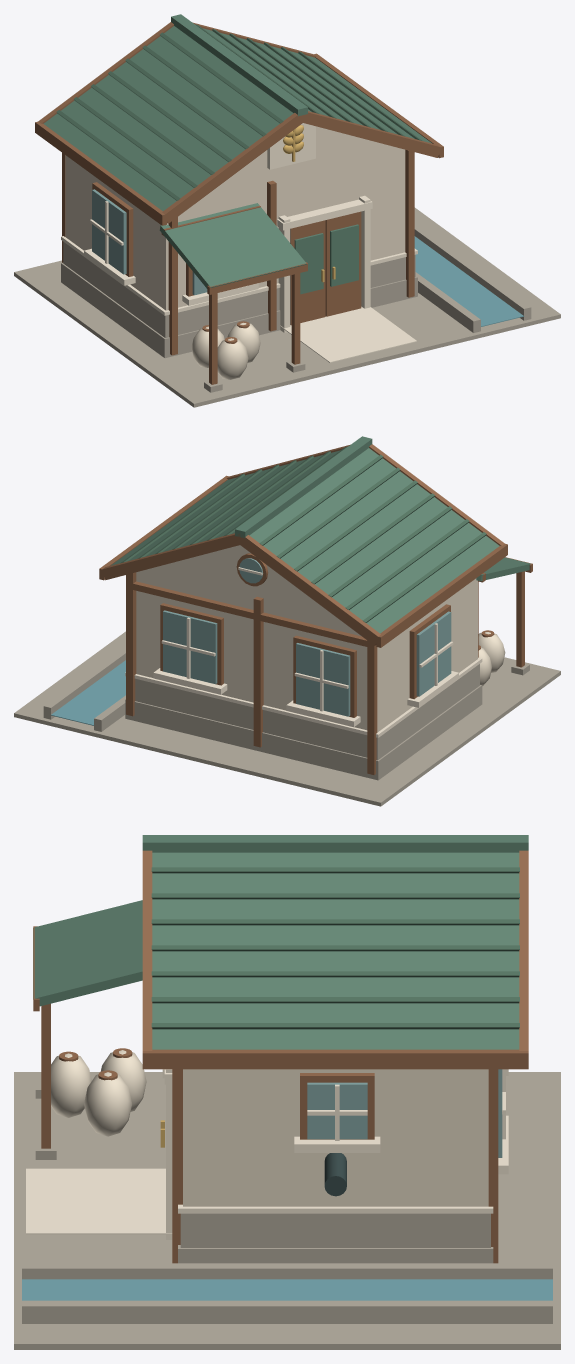
File: watermill.glb
3 views of the same model, one above another, from view 1: azimuth 30°, elevation 25°; view 2: azimuth 150°, elevation 25°; view 3: azimuth 270°, elevation 25° (orthographic). The views are drawn at different scales.
Visible parts, largest first — view 1: sage, stone, ivory, wood, trim, sageShade, water, glass, door-leaf-1, door-inlay-1, door-leaf--1, door-inlay--1 (+1 smaller); view 2: stone, sage, ivory, wood, glass, sageShade, trim, water; view 3: stone, sage, ivory, wood, sageShade, trim, water, glass, dark.
Boxes of the visible parts, left/top/right/bottom form: sage: left=43, top=14, right=431, bottom=288; stone: left=14, top=207, right=560, bottom=407; ivory: left=65, top=126, right=405, bottom=379; wood: left=35, top=22, right=443, bottom=384; trim: left=61, top=123, right=417, bottom=362; sageShade: left=56, top=24, right=422, bottom=200; water: left=414, top=236, right=524, bottom=326; glass: left=92, top=189, right=207, bottom=295; door-leaf-1: left=325, top=211, right=361, bottom=316; door-inlay-1: left=330, top=224, right=358, bottom=286; door-leaf--1: left=290, top=220, right=325, bottom=325; door-inlay--1: left=294, top=233, right=323, bottom=294; stone: left=14, top=631, right=560, bottom=806; sage: left=111, top=436, right=530, bottom=633; ivory: left=136, top=545, right=505, bottom=732; wood: left=99, top=444, right=532, bottom=774; glass: left=163, top=558, right=451, bottom=716; sageShade: left=121, top=446, right=486, bottom=622; trim: left=125, top=567, right=482, bottom=737; water: left=51, top=660, right=125, bottom=725; stone: left=14, top=1072, right=560, bottom=1349; sage: left=33, top=835, right=528, bottom=1049; ivory: left=51, top=1050, right=488, bottom=1206; wood: left=33, top=850, right=528, bottom=1263; sageShade: left=151, top=867, right=519, bottom=1029; trim: left=26, top=1069, right=508, bottom=1239; water: left=22, top=1279, right=552, bottom=1300; glass: left=307, top=1069, right=502, bottom=1157; dark: left=324, top=1153, right=346, bottom=1196.
Bounding box in the file's own units: 8 × 4.82 × 6.8.
